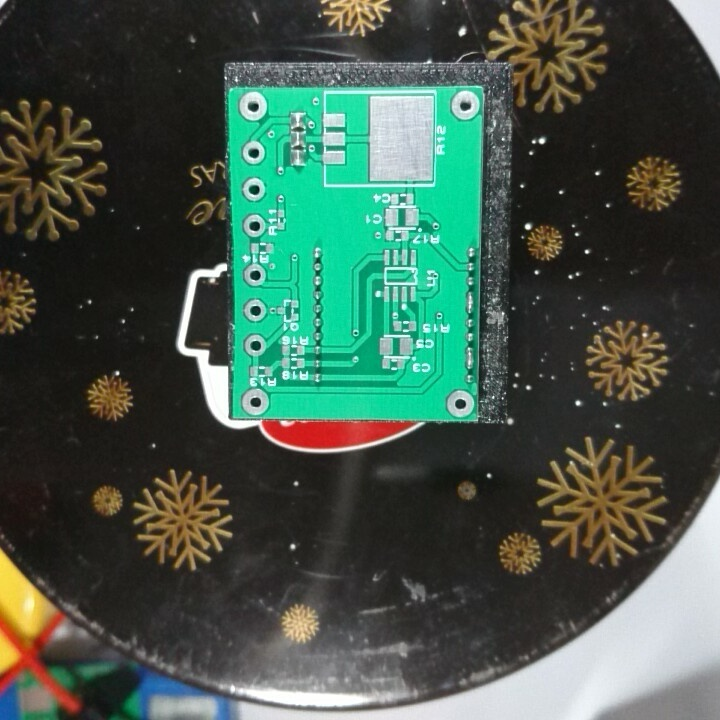F: (237, 89, 270, 123), (443, 386, 475, 420), (448, 89, 481, 121), (239, 386, 273, 416), (238, 138, 268, 167), (239, 175, 268, 202), (242, 212, 268, 241), (242, 296, 268, 324), (242, 262, 267, 289), (243, 332, 267, 358)
P: (462, 343, 478, 372), (463, 289, 477, 317)
